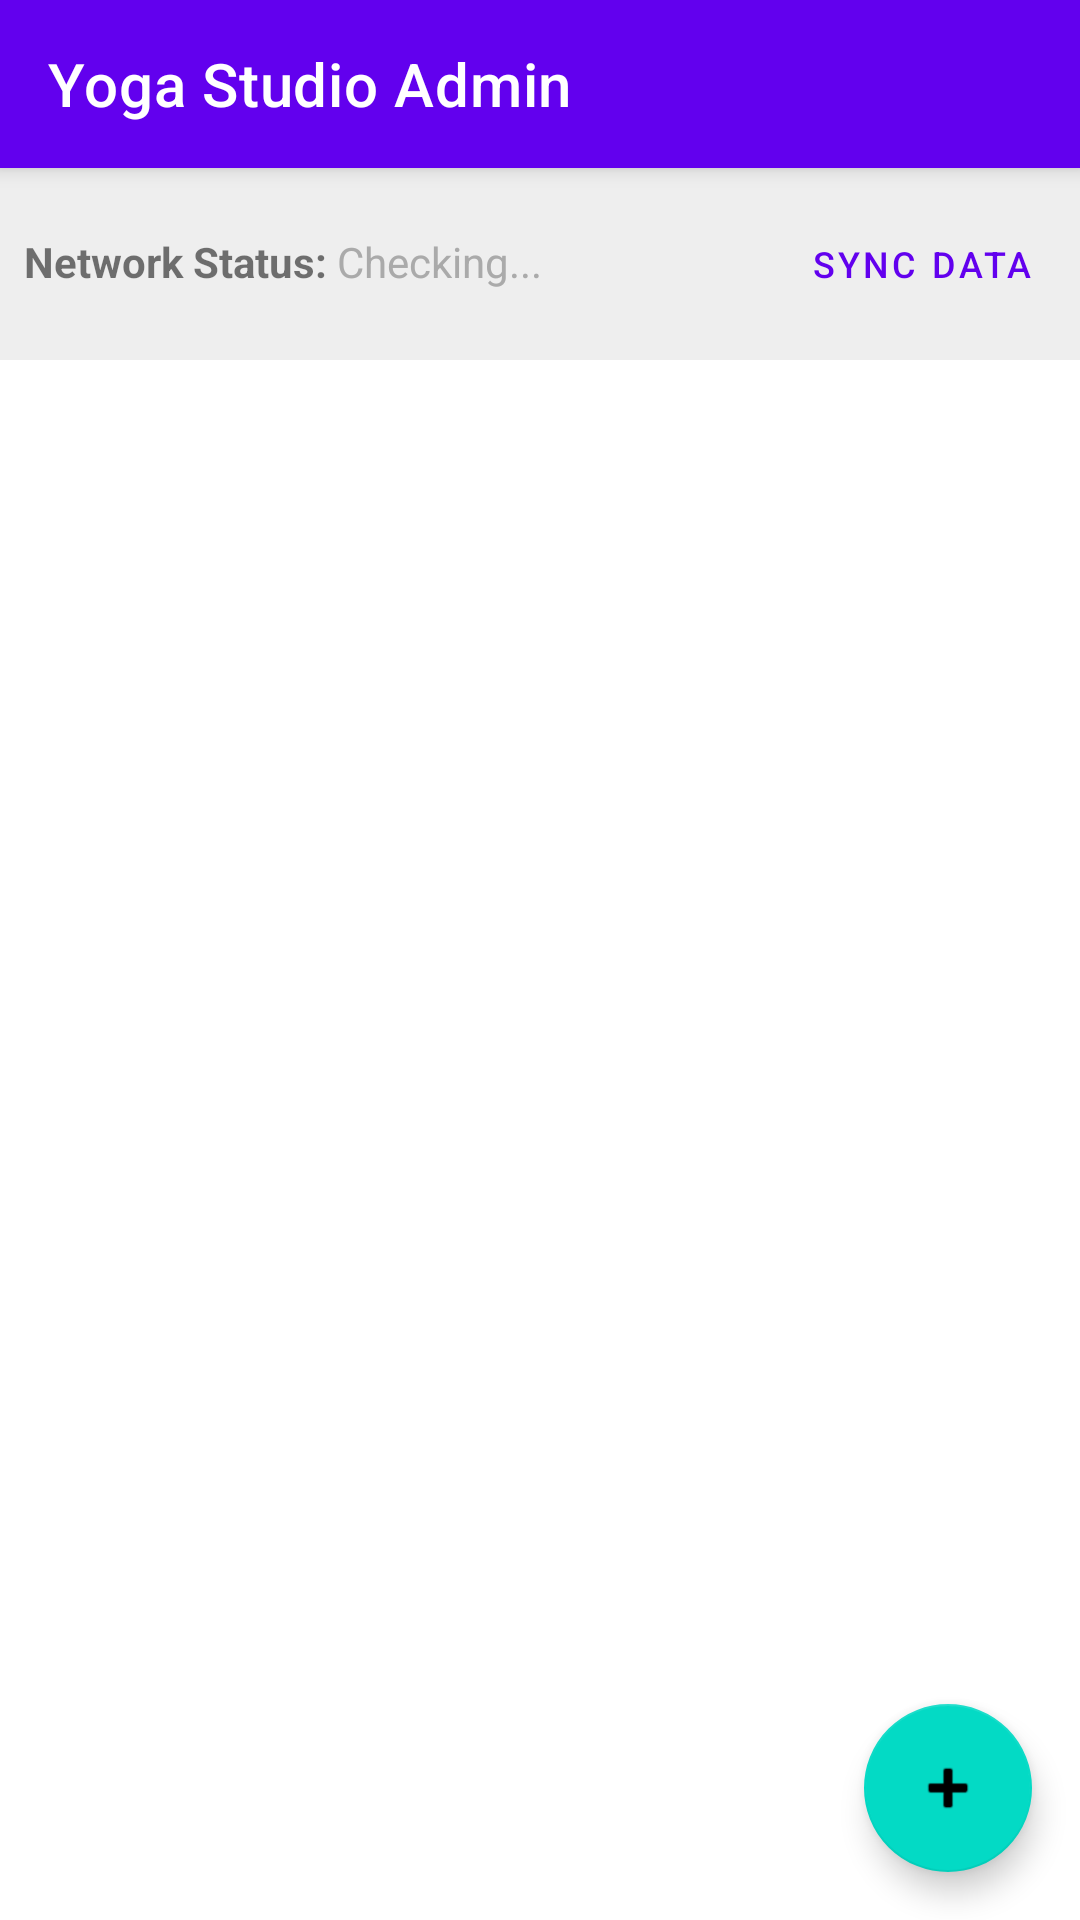

Icons on this 1080*1920 Android screen, each with its box as bbox=(x1, y1, x2, y2):
Add Course: bbox=(864, 1704, 1032, 1872)
